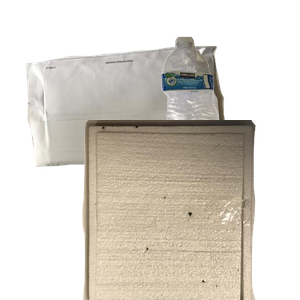glass: (98, 120, 286, 300)
paper: (24, 43, 242, 202)
plastic: (159, 34, 300, 176)
trash: (80, 120, 300, 300)
